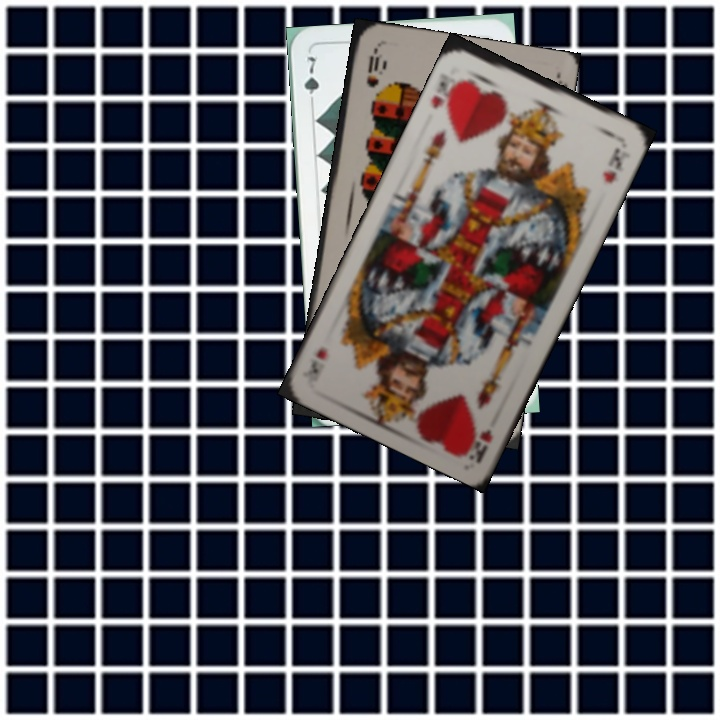G7: (299, 53, 322, 110)
HK: (427, 75, 465, 117), (463, 424, 495, 462)
S10: (362, 46, 382, 90)
